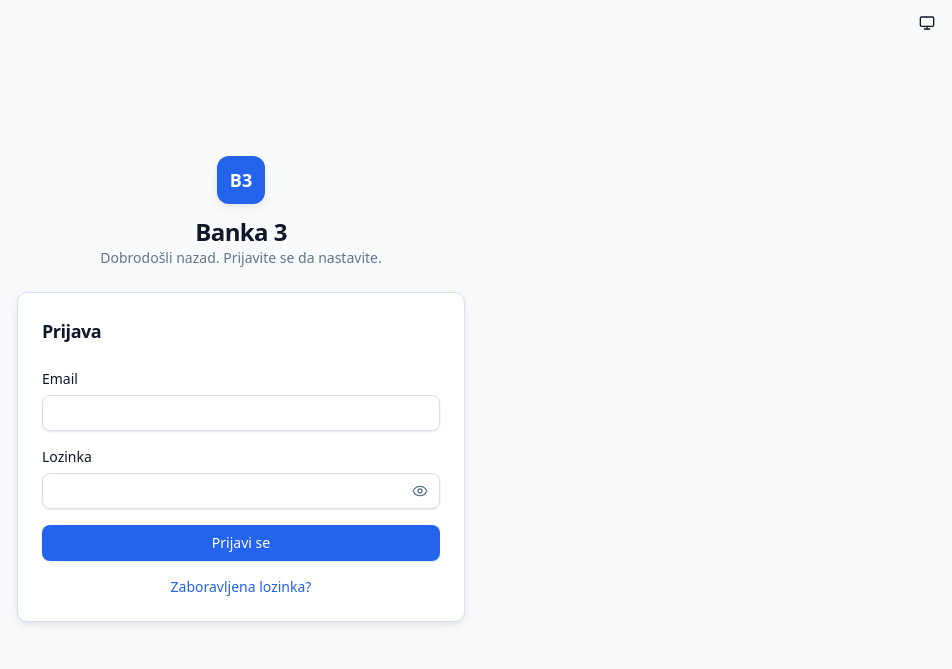
Celina 1 — autentifikacija › 2: pogrešna lozinka prikazuje "Neispravni kredencijali"
Type "luka@banka.rs" into the field labelled "Email" at (241, 413), box [42,395,440,431]
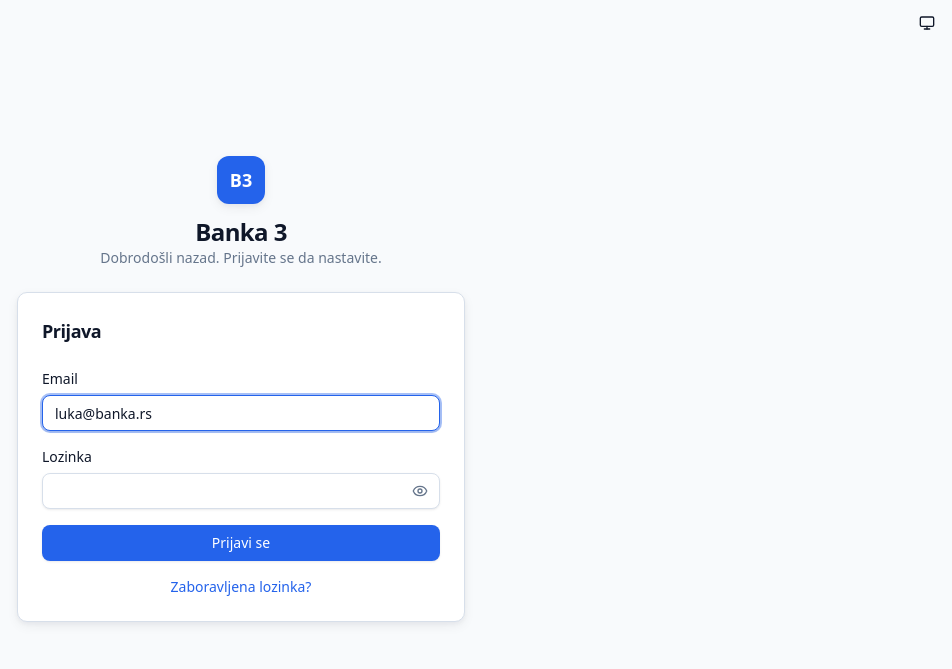
Type "pogresna123" into the password field labelled "Lozinka" at (241, 491), box [42,473,440,509]
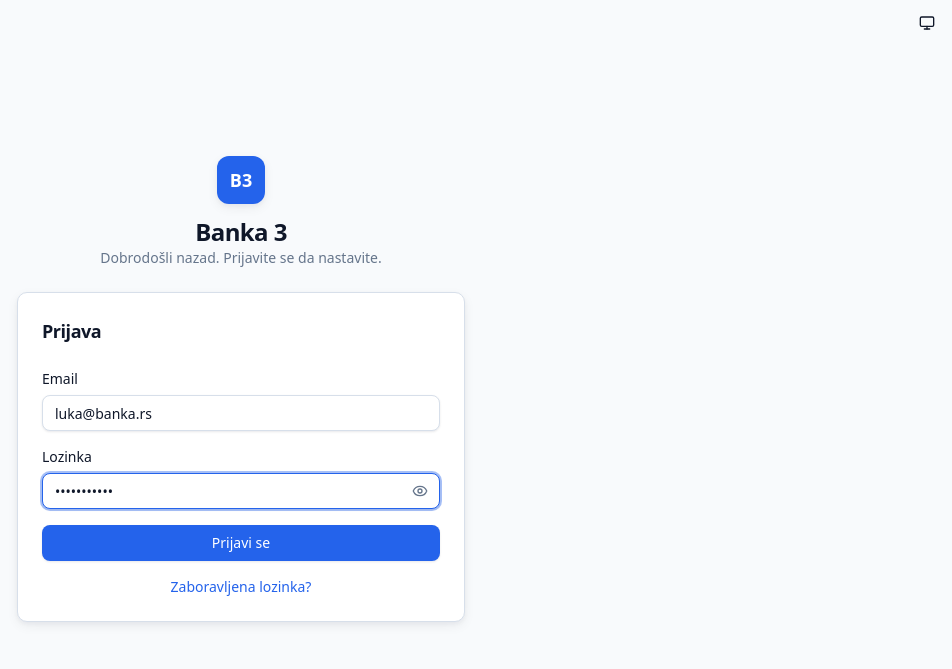
Click the button "Prijavi se" at (241, 543), box [42,525,440,561]
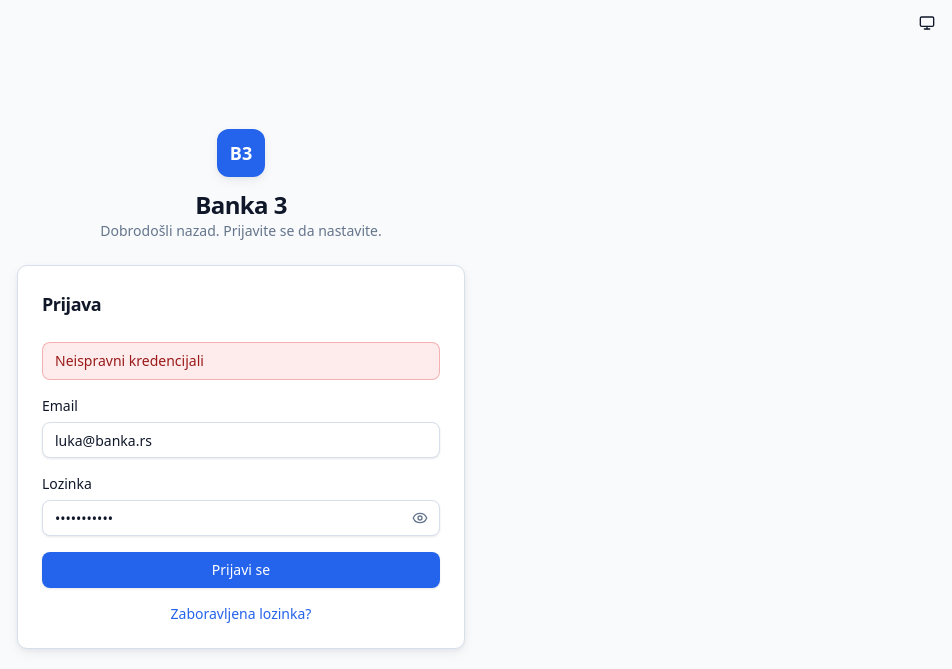
Expected: the text "Neispravni kredencijali" is shown, [42,342,440,380]
